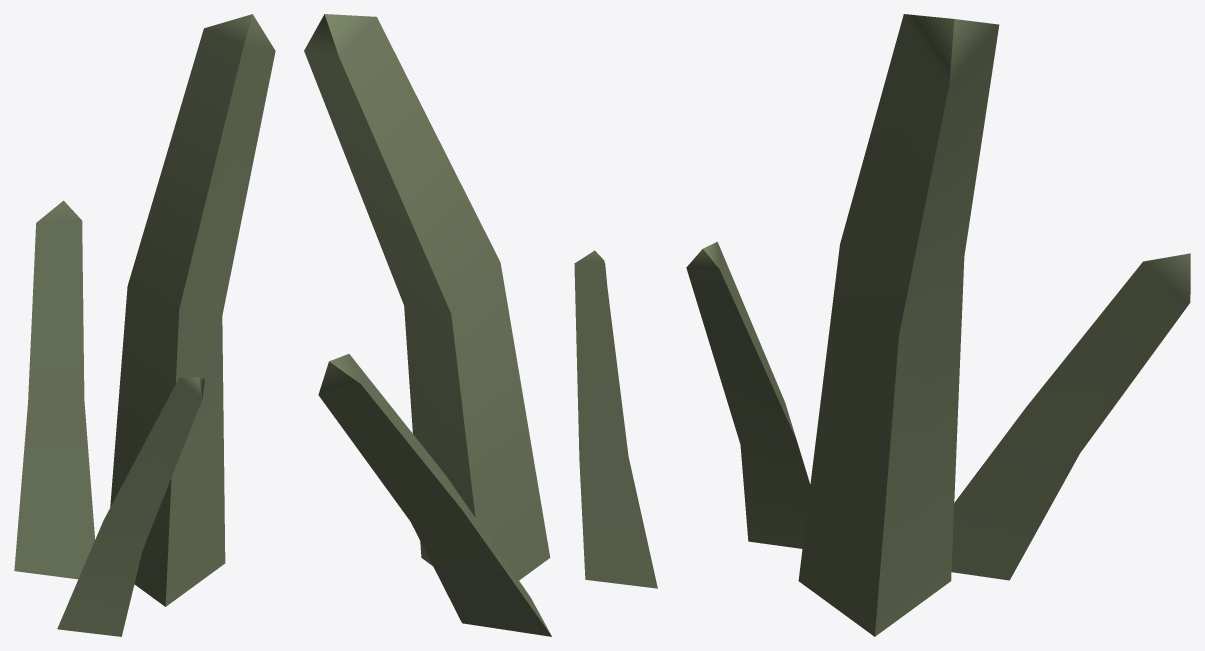
The model's file is P_grass_05_LD.fbx.
3 renders of one model, left to right at view 1: azimuth 30°, elevation 25°; view 2: azimuth 150°, elevation 25°; view 3: azimuth 270°, elevation 25°, orthographic. The views are drawn at different scales.
Visible parts, largest first — view 1: P_grass_05; view 2: P_grass_05; view 3: P_grass_05.
Part boxes in pixels (x1=…): P_grass_05: x1=14, y1=14, x2=275, y2=636; P_grass_05: x1=304, y1=14, x2=657, y2=636; P_grass_05: x1=686, y1=14, x2=1190, y2=636.
Size of the model in its own units: 26.77 by 47.96 by 33.5.
Materials: 1 (1 with a texture image).
